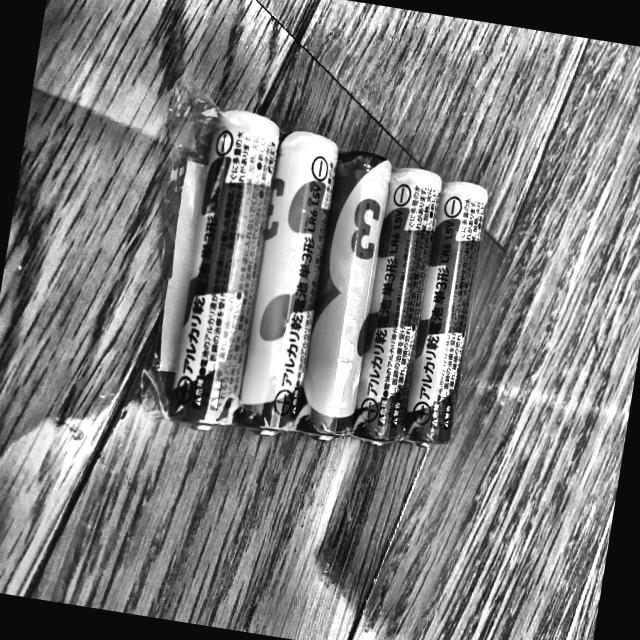drycell: (343, 160, 446, 458), (396, 176, 494, 464)
